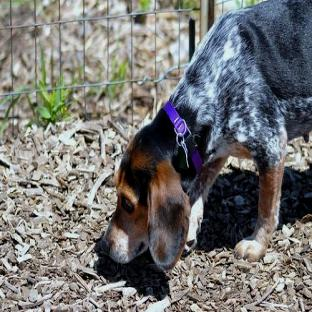Animal: (99, 0, 311, 269)
